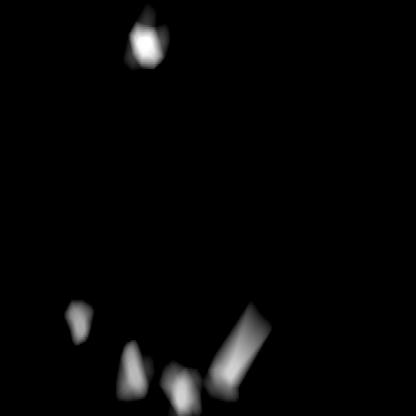fingers: (128, 20, 166, 69)
palm: (62, 295, 261, 414)
